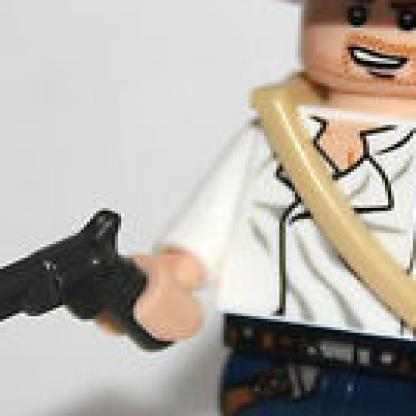gun: (0, 208, 187, 361)
